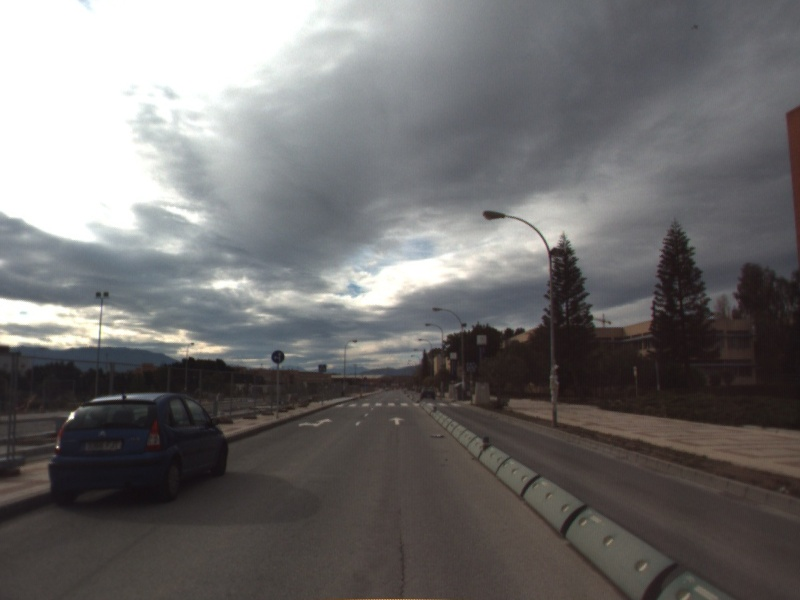STRAIGHT: (387, 414, 407, 427)
STRAIGHT_LEFT: (296, 416, 335, 429)
